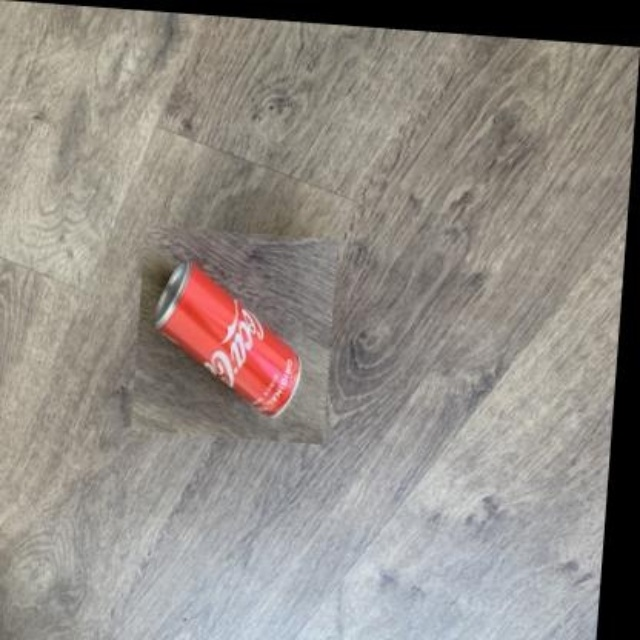trash: (154, 260, 302, 415), (154, 260, 300, 415)
